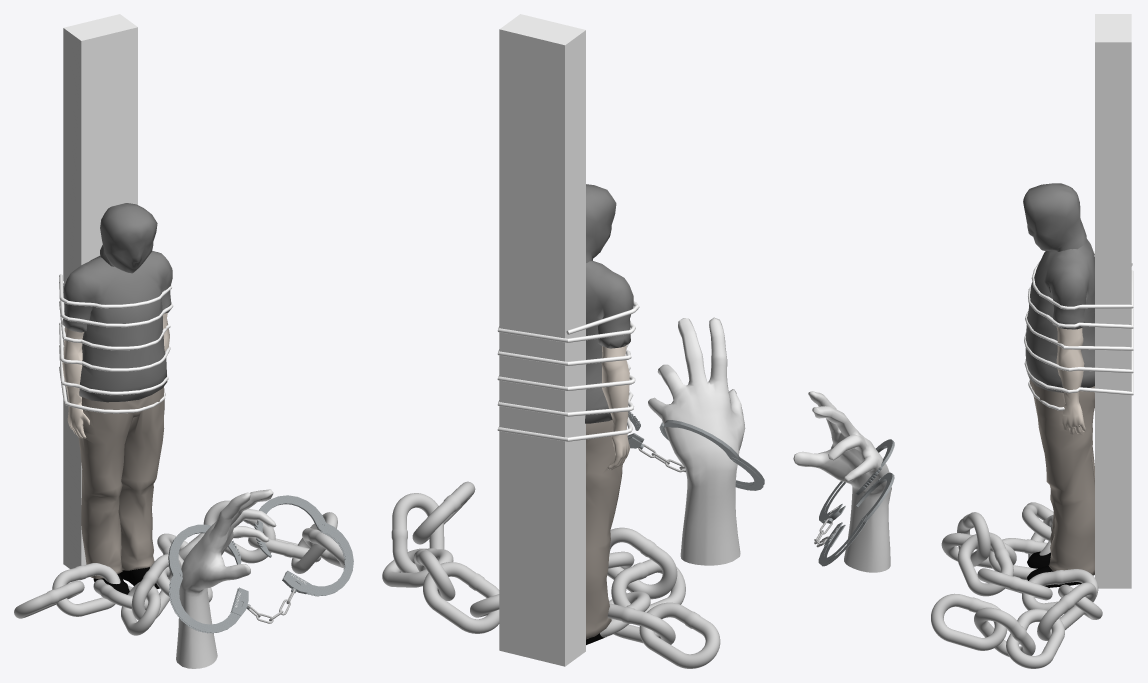
File: secuestro.gltf
3 views of the same model, side by side, from view 1: azimuth 30°, elevation 25°; view 2: azimuth 150°, elevation 25°; view 3: azimuth 270°, elevation 25° (orthographic). The views are drawn at different scales.
Parts seen in each view (by area): view 1: kidnaped, handObj, espo, Torus.015_Torus.016, Torus.013_Torus.014, Torus.006_Torus.007, Torus.012_Torus.013, Torus.016_Torus.017, Torus.018_Torus.019, Torus.019_Torus.020, Torus.017_Torus.018, Torus.014_Torus.015; view 2: kidnaped, handObj, Torus.006_Torus.007, Torus.009_Torus.010, Torus.013_Torus.014, Torus.019_Torus.020, espo, Torus.012_Torus.013, Torus.015_Torus.016, Torus.018_Torus.019, Torus.017_Torus.018, Torus.016_Torus.017 (+1 smaller); view 3: kidnaped, handObj, espo, Torus.018_Torus.019, Torus.011_Torus.012, Torus.017_Torus.018, Torus.016_Torus.017, Torus.019_Torus.020, Torus.008_Torus.009, Torus.010_Torus.011, Torus.013_Torus.014, Torus.014_Torus.015 (+3 smaller).
Part boxes in pixels (x1,y1,x2,y2): kidnaped: (59,14,173,594); handObj: (176,489,276,668); espo: (168,495,353,633); Torus.015_Torus.016: (52,563,120,616); Torus.013_Torus.014: (131,554,181,620); Torus.006_Torus.007: (14,580,84,618); Torus.012_Torus.013: (121,581,160,635); Torus.016_Torus.017: (203,500,275,563); Torus.018_Torus.019: (302,528,344,568); Torus.019_Torus.020: (291,512,337,573); Torus.017_Torus.018: (248,537,321,562); Torus.014_Torus.015: (93,579,148,609); kidnaped: (497,14,639,666); handObj: (648,317,745,565); Torus.006_Torus.007: (639,602,720,668); Torus.009_Torus.010: (423,562,499,633); Torus.013_Torus.014: (607,527,677,599); Torus.019_Torus.020: (391,493,444,572); espo: (627,411,764,490); Torus.012_Torus.013: (611,559,685,612); Torus.015_Torus.016: (607,603,675,644); Torus.018_Torus.019: (412,481,475,544); Torus.017_Torus.018: (382,548,453,587); Torus.016_Torus.017: (413,549,455,601); kidnaped: (1023,14,1133,588); handObj: (793,391,891,572); espo: (814,439,894,566); Torus.018_Torus.019: (931,593,1007,650); Torus.011_Torus.012: (957,532,1013,596); Torus.017_Torus.018: (1006,609,1064,668); Torus.016_Torus.017: (1037,582,1096,640); Torus.019_Torus.020: (974,607,1035,656); Torus.008_Torus.009: (1022,569,1098,613); Torus.010_Torus.011: (977,568,1052,600); Torus.013_Torus.014: (957,512,990,566); Torus.014_Torus.015: (988,538,1047,580).
Size of the model in its own units: 18.83 by 33.01 by 18.32.
12 materials, 2 textured.
